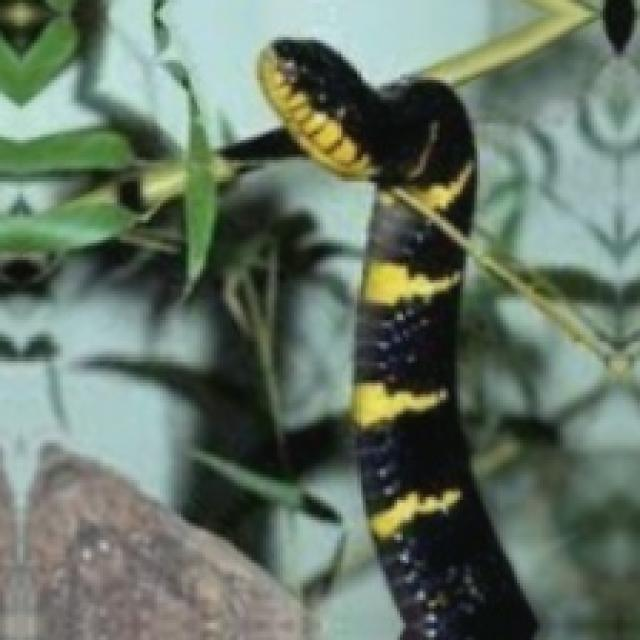mangrove cat snake: (257, 40, 534, 637)
